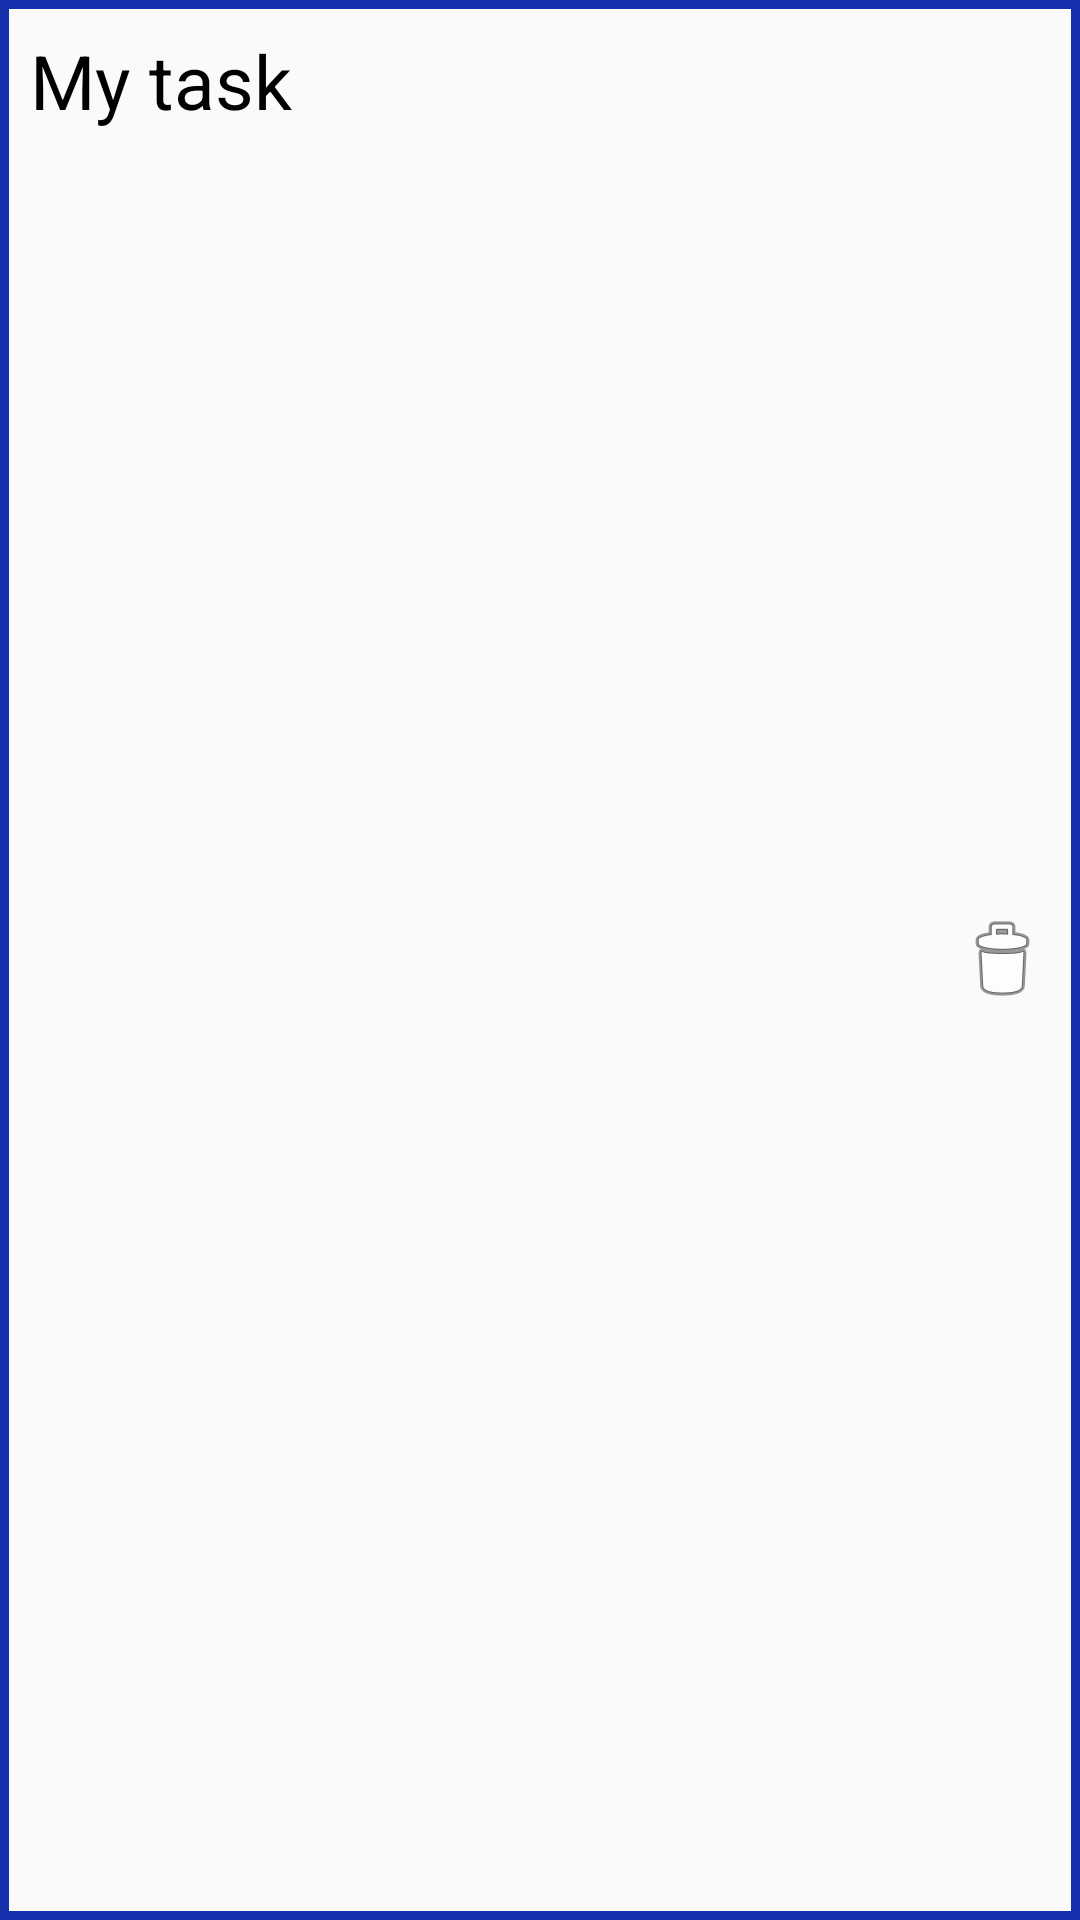

Icon click points for this 1080×1920 phone screenshot, format point (x, y):
delete: point (1002, 958)
